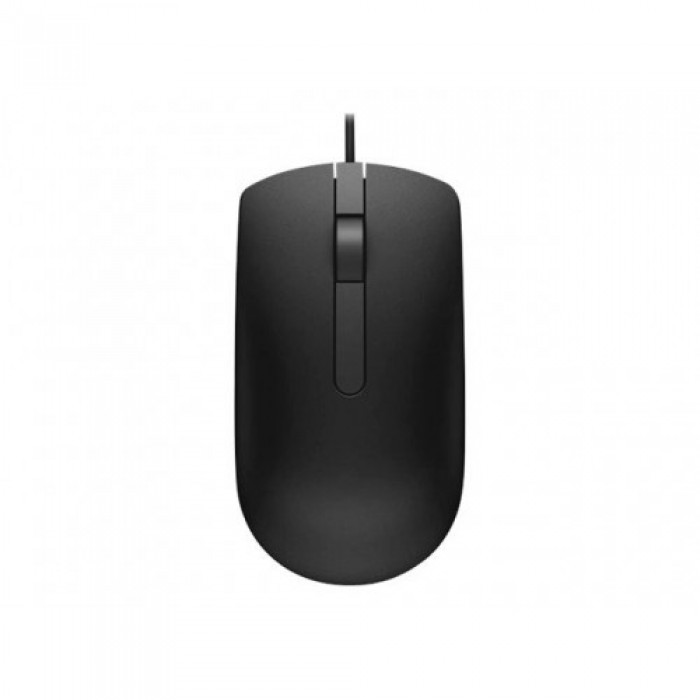dell-mouse-ms116: (229, 113, 465, 586)
